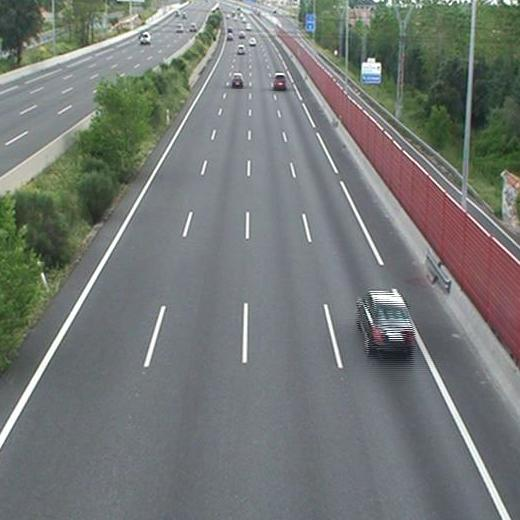car: (357, 292, 413, 351), (273, 74, 287, 90), (231, 74, 243, 87), (237, 45, 245, 54)
